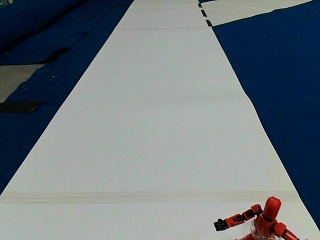pedestrian: (210, 195, 296, 238)
